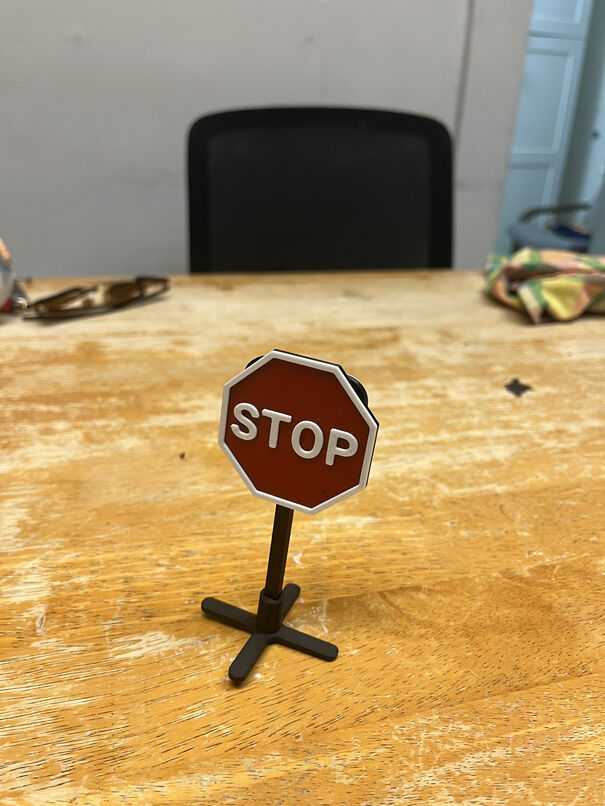sign_stop: (213, 347, 382, 515)
